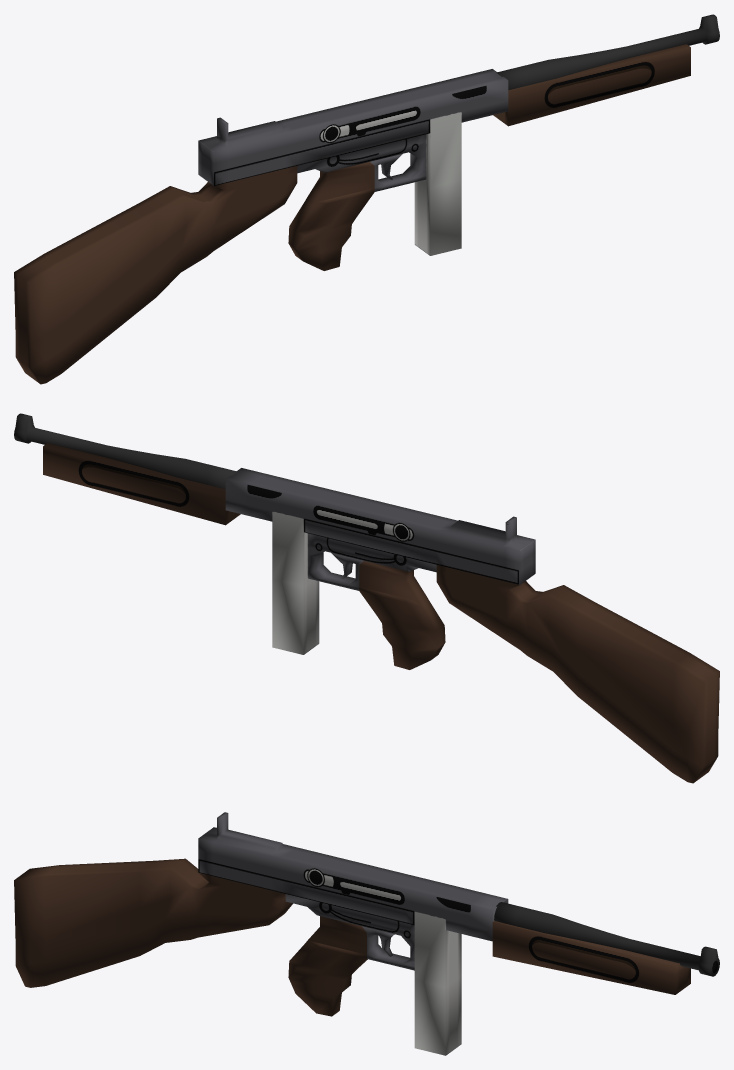
Rendered from Tomp.fbx.
3 renders of one model, top to bottom at view 1: azimuth 30°, elevation 25°; view 2: azimuth 150°, elevation 25°; view 3: azimuth 330°, elevation 25°, orthographic.
Parts seen in each view (by area): view 1: Cube; view 2: Cube; view 3: Cube.
Boxes of the visible parts, x1,y1,x2,y2 form: Cube: [14, 14, 719, 384]; Cube: [14, 413, 719, 783]; Cube: [14, 812, 719, 1055].
Size of the model in its own units: 215 by 62.8 by 8.45.
